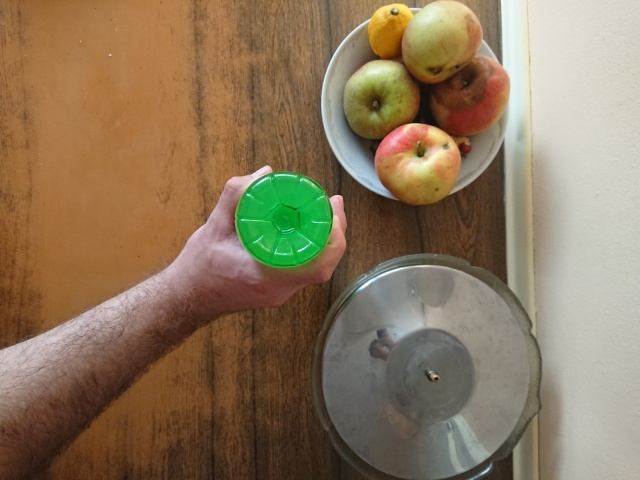Vindi Iso Sport Lemon-Grapefruit 500mL: (231, 168, 337, 272)
